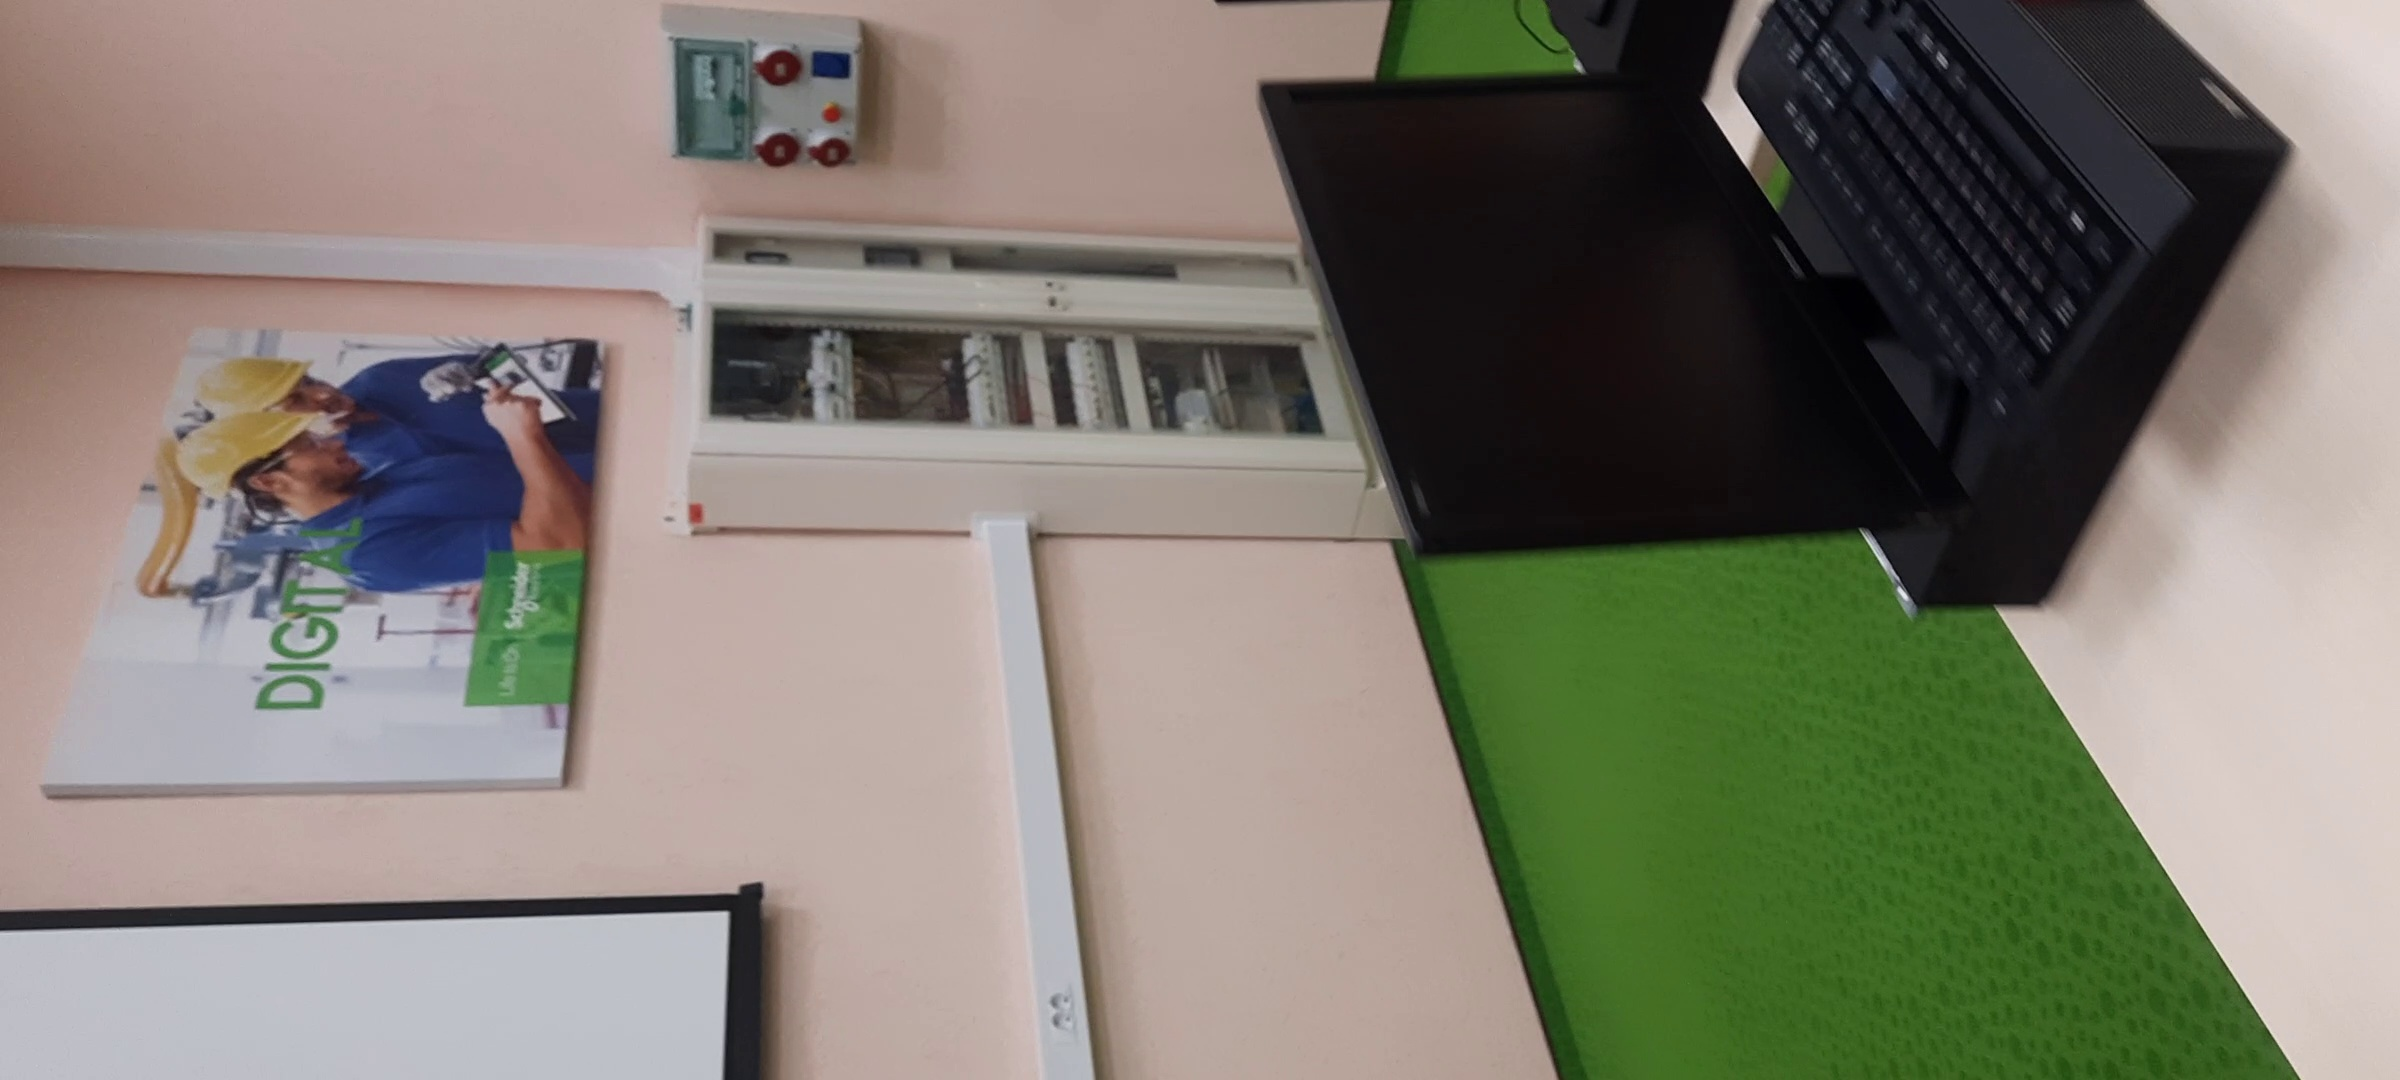stand1: (684, 217, 1382, 534)
